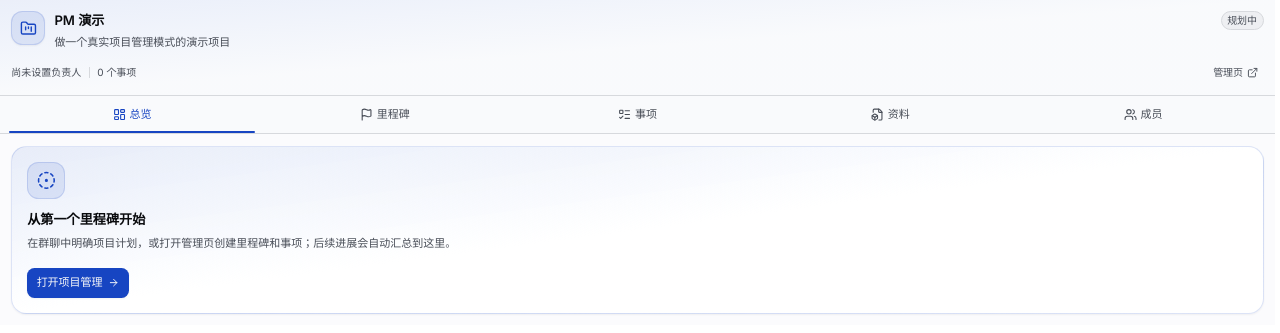
Test: ProjectOsTab › renders useful empty states for a newly planned project
Expected: the element with test id "project-empty-launch-card" shows "从第一个里程碑开始", [27,211,145,227]
Expected: the text "项目资料" is not shown
Step 1. Click the tab "里程碑" → (385, 115), box [258,96,511,133]
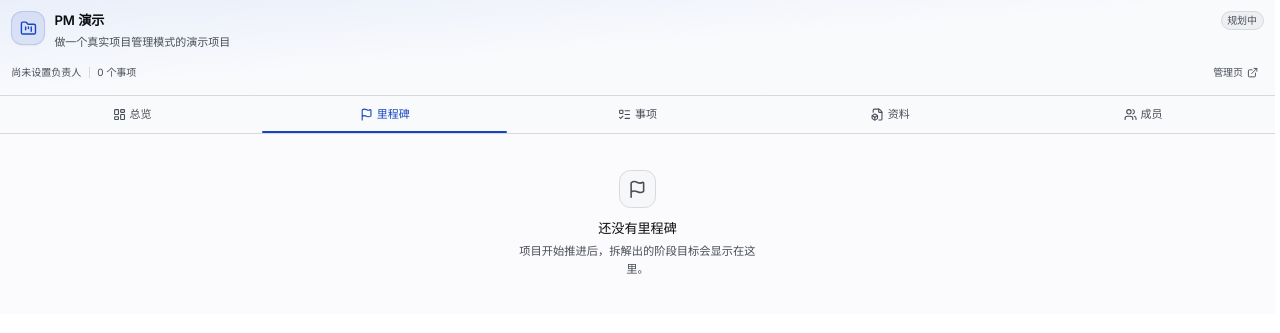
Now the text "还没有里程碑" is shown, box [598,219,677,238]
Step 2. Click the tab "事项" → (638, 115), box [511,96,764,133]
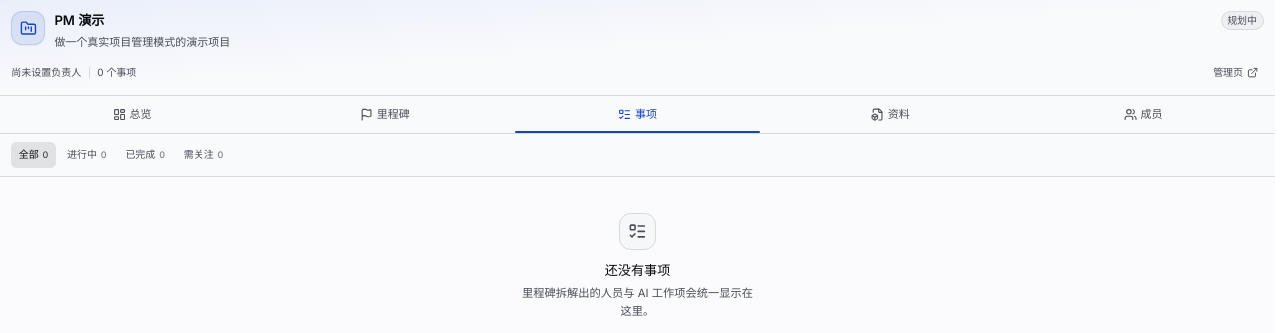
Now the text "还没有事项" is shown, box [605,261,670,280]
Step 3. Click the tab "资料" → (890, 115), box [764,96,1017,133]
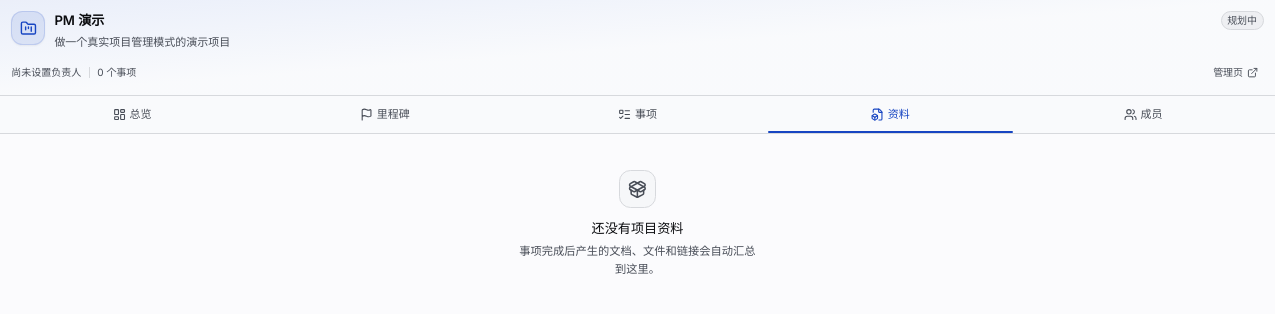
Now the text "还没有项目资料" is shown, box [592,219,683,238]
Step 4. Click the tab "成员" → (1143, 115), box [1017,96,1269,133]
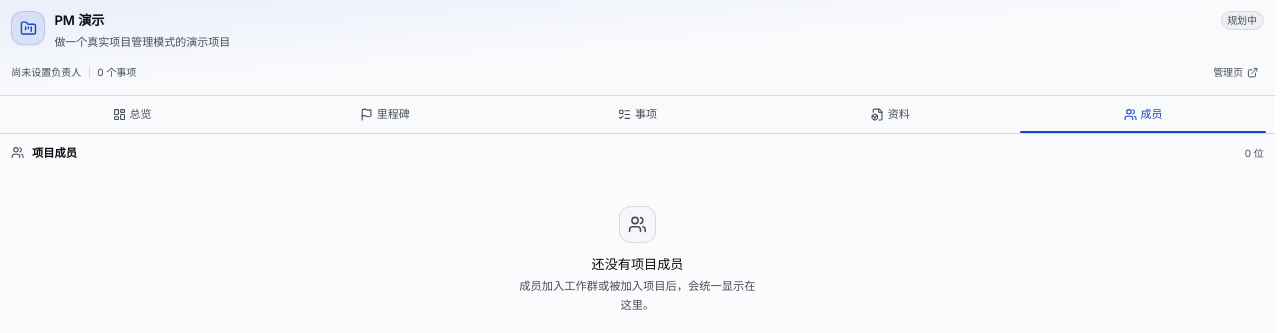
Now the text "还没有项目成员" is shown, box [592,255,683,274]
